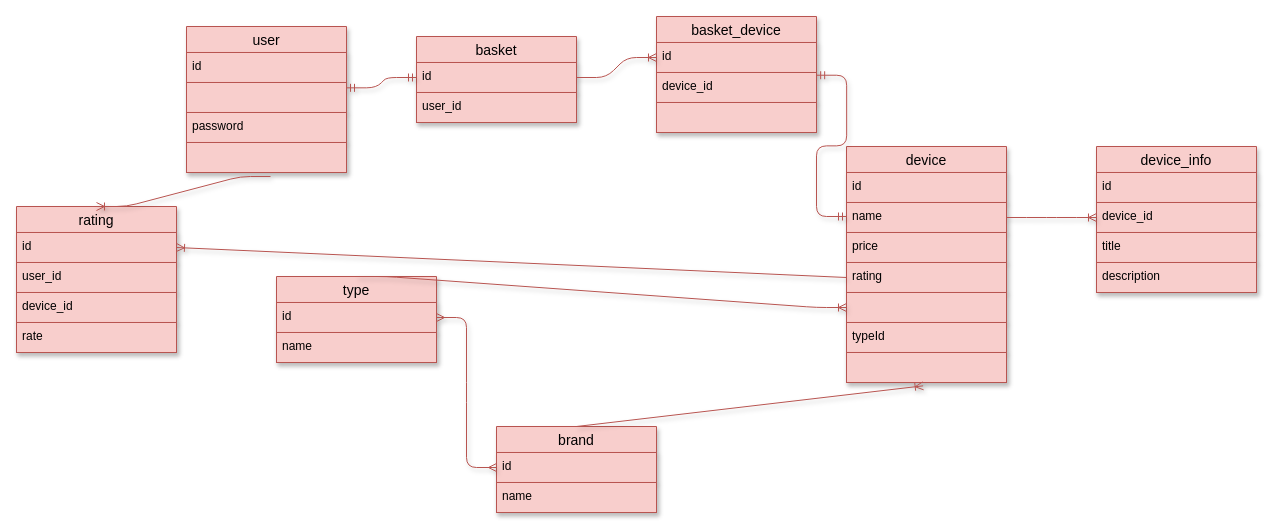
Image size: 1273x529. Some labels were removed from this diagram. Each missing label, with the centre of its shape:
basket_id: (x=737, y=119)
brandId: (x=927, y=369)
email: (x=267, y=99)
img: (x=927, y=309)
role STRING: (x=267, y=159)
